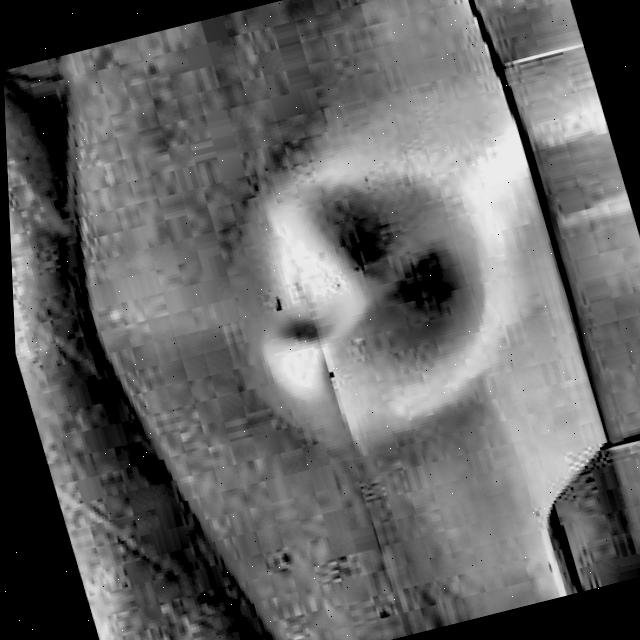bumper_dent: (206, 142, 515, 453)
